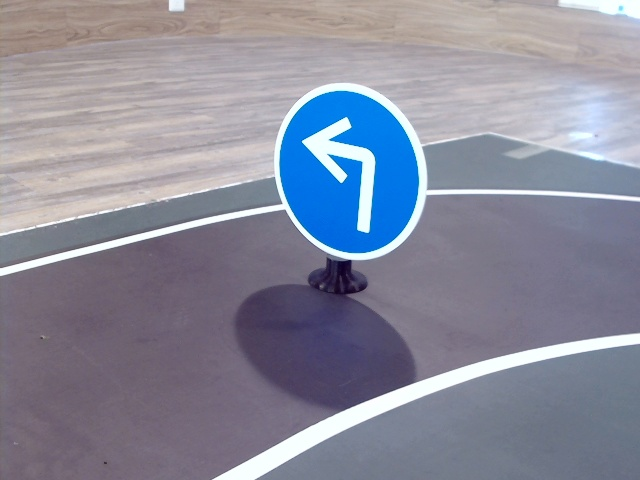turn_left: (303, 114, 380, 226)
